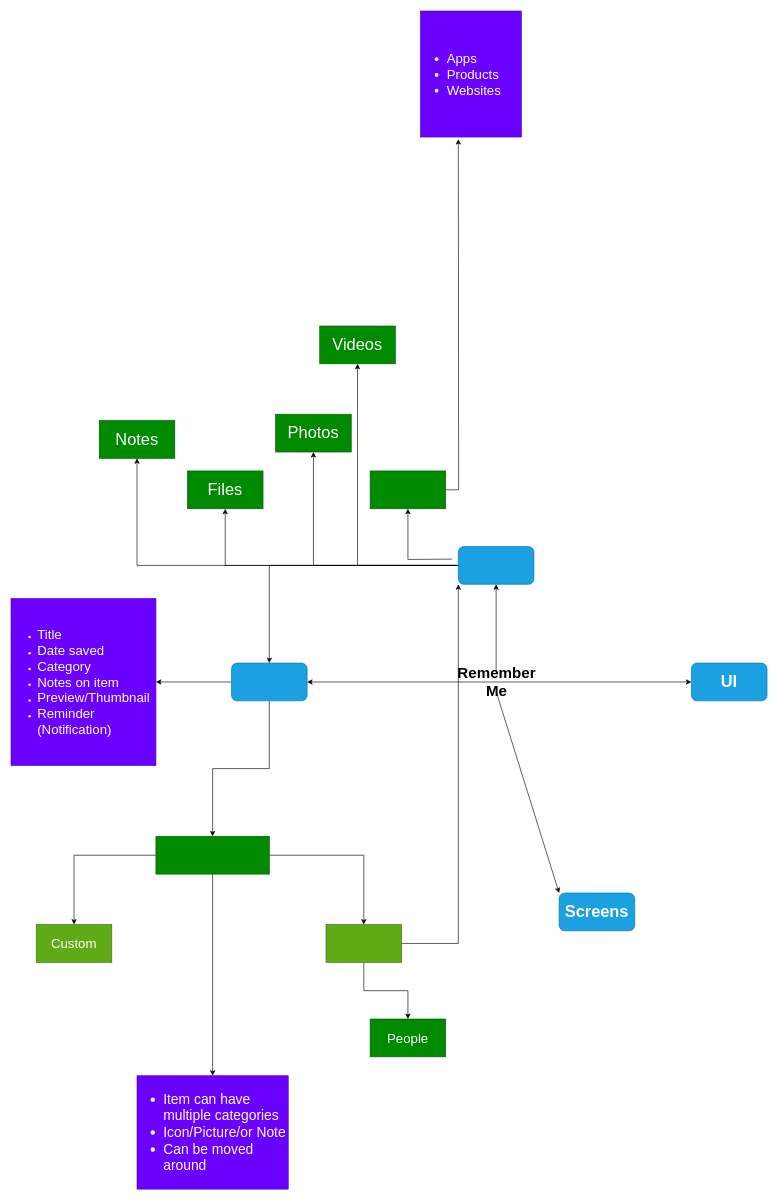
Image size: 778x1200. Some labels were removed from this diagram. The shapes that lost their labels are listed below. From the top down, each one's box as (x1, y1, x2, y2) in pixels, then its label:
(369, 470, 446, 509): Links
(458, 546, 534, 584): Content Type
(231, 662, 307, 701): Information
(155, 836, 269, 874): Categories
(325, 924, 402, 962): Default
